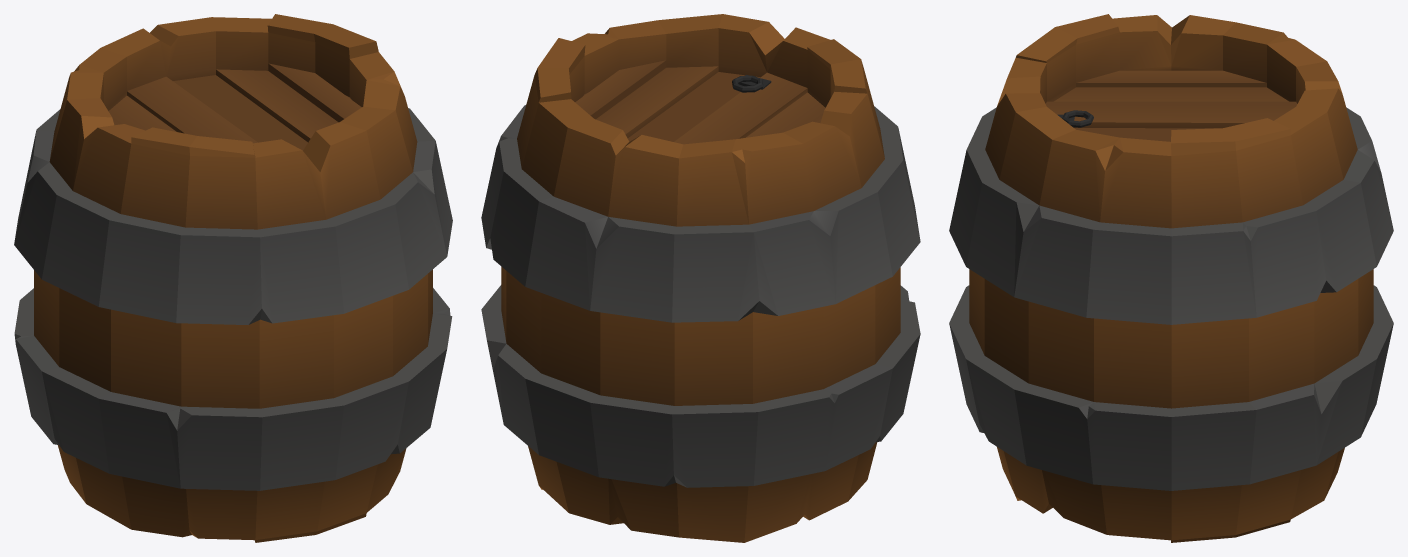
Rendered from Laboratorio.fbx_Barril.fbx.
3 renders of one model, left to right at view 1: azimuth 30°, elevation 25°; view 2: azimuth 150°, elevation 25°; view 3: azimuth 270°, elevation 25°, orthographic.
Parts seen in each view (by area): view 1: Barril; view 2: Barril; view 3: Barril.
Part boxes in pixels (bbox=[...]): Barril: bbox=[14, 14, 452, 542]; Barril: bbox=[481, 14, 920, 542]; Barril: bbox=[949, 14, 1393, 542].
Size of the model in its own units: 100 by 100 by 100.
